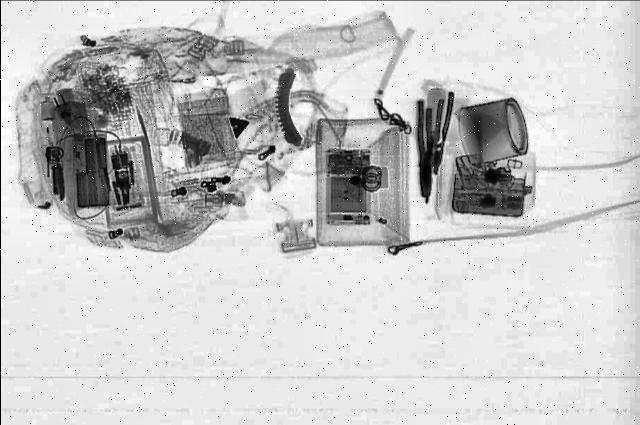Pliers: (416, 100, 436, 198)
